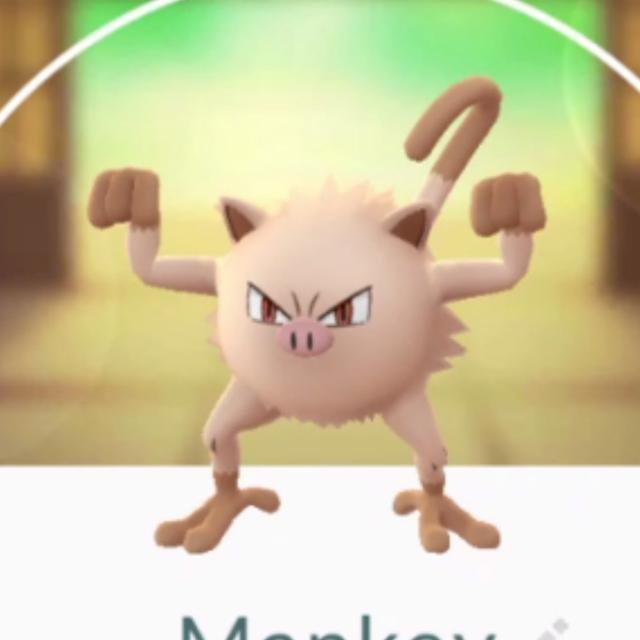Mankey: (148, 130, 517, 557)
